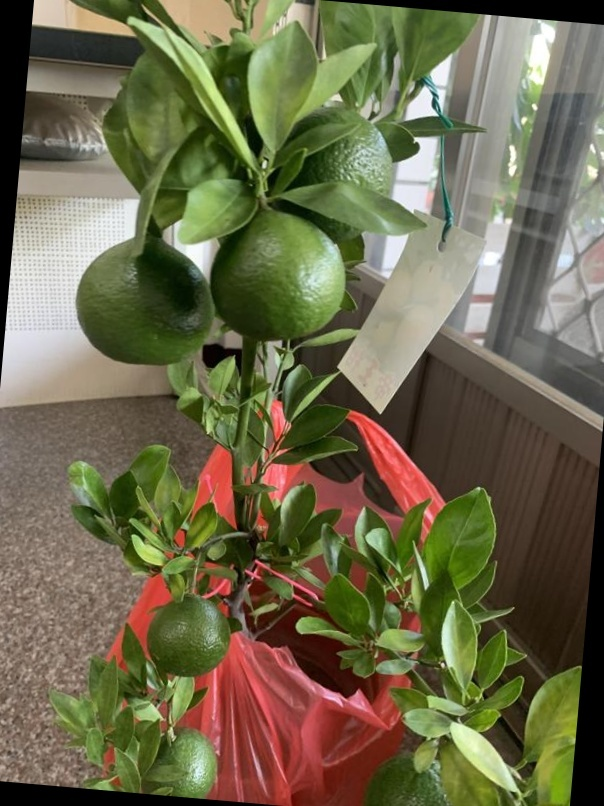Tangerine: (200, 209, 354, 337), (72, 232, 216, 367), (142, 590, 236, 678), (132, 726, 221, 799)
